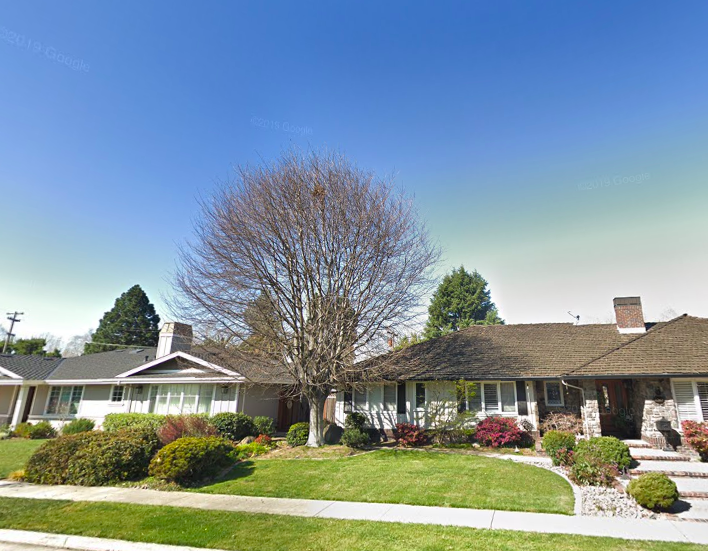tree: (158, 139, 449, 449)
